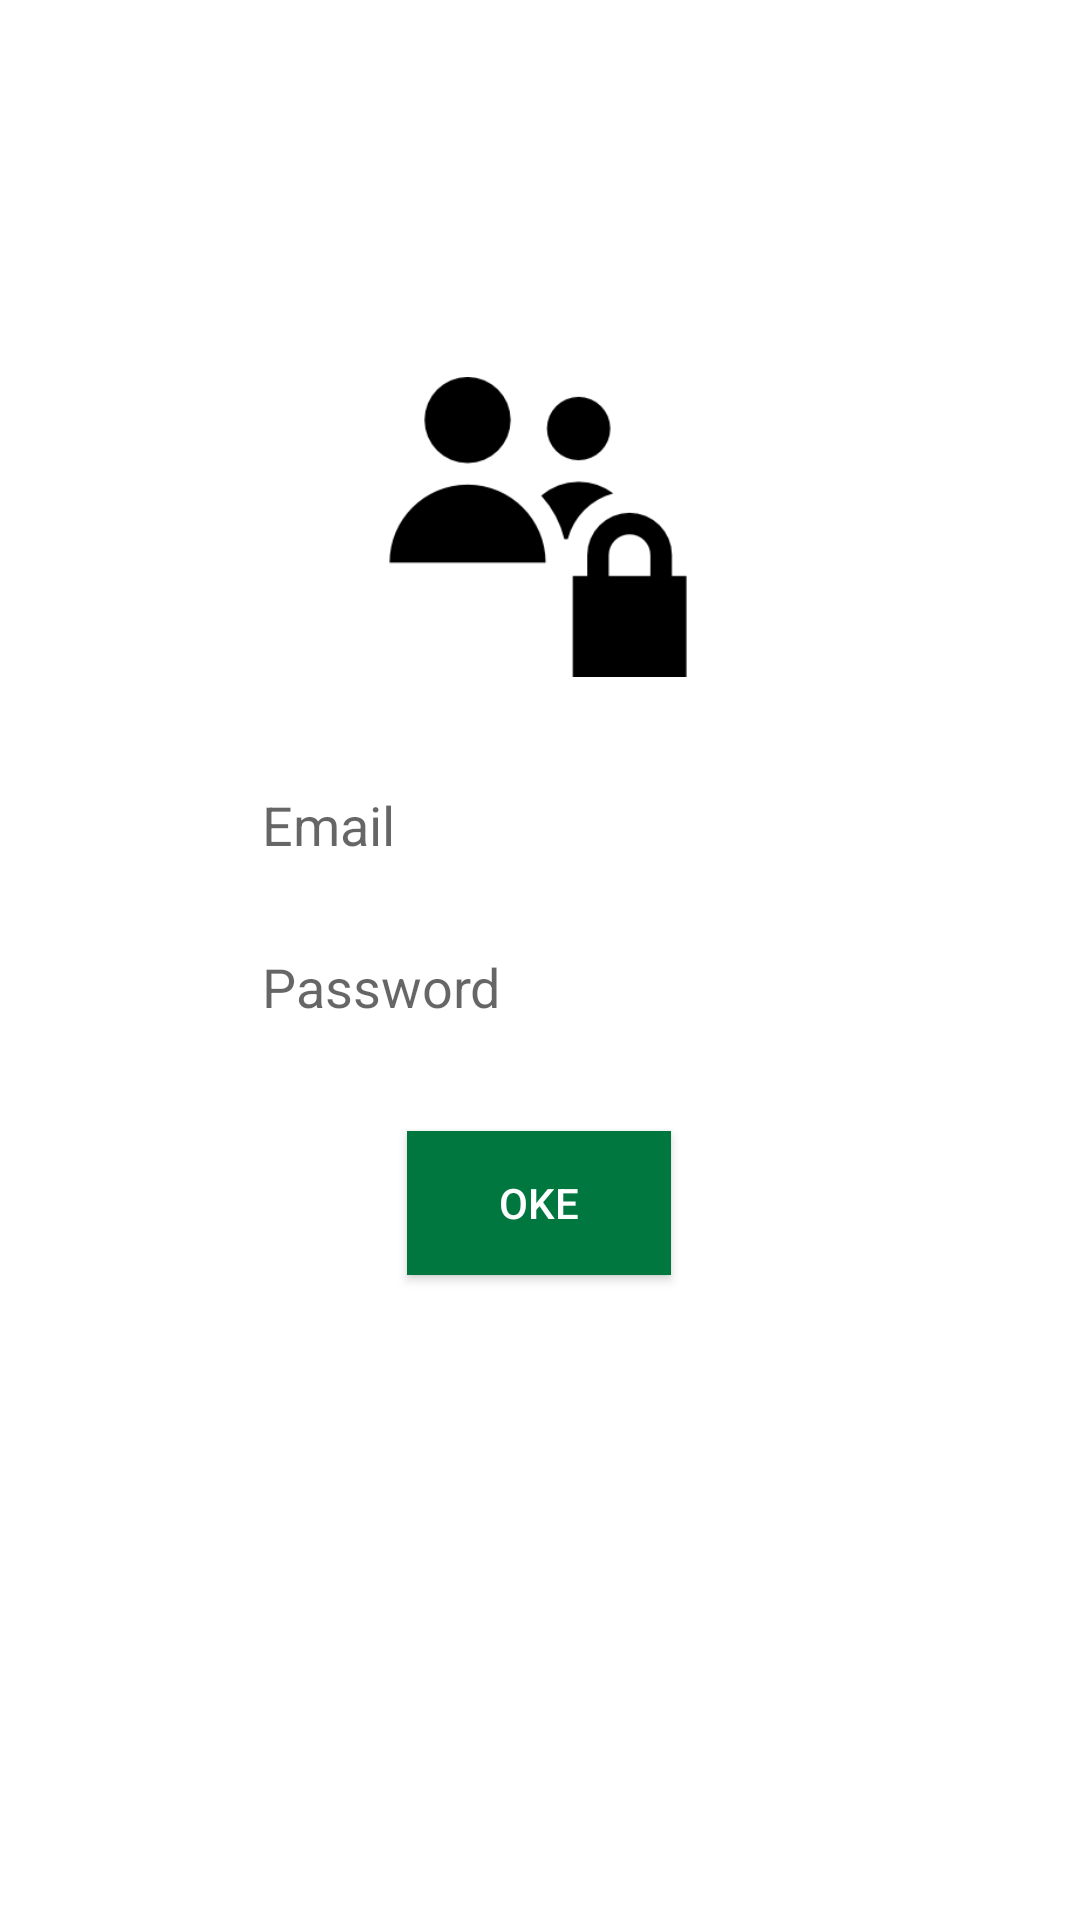

Icon click points for this 1080x1920 phone screenshot, format (x,y):
user: (538,527)
